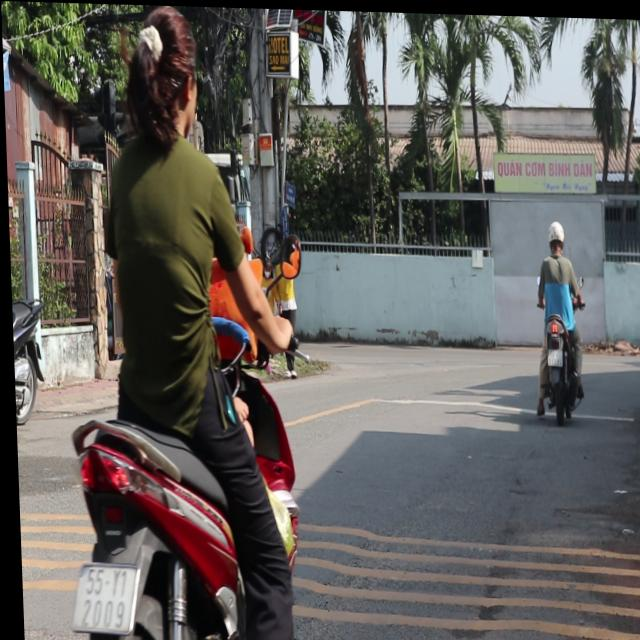licenseplate: (44, 1, 311, 640)
motorcyclist: (120, 3, 200, 149)
nohelmet: (63, 563, 135, 629)
